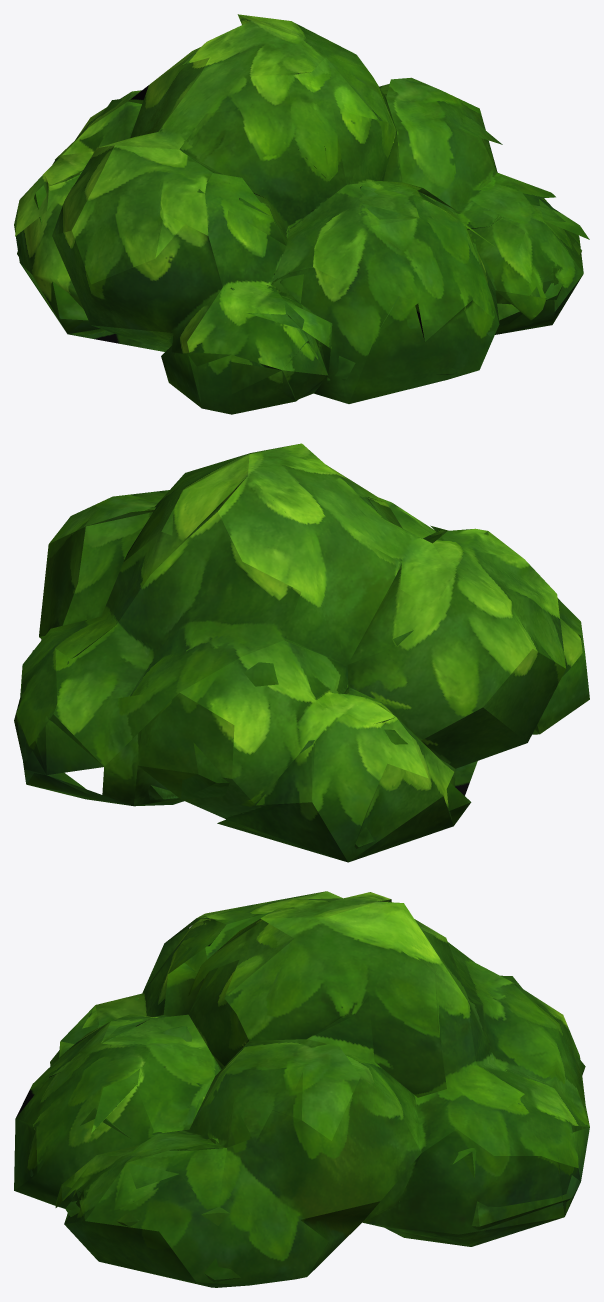
The model's file is bush.glb.
The picture shows the model from 3 angles, top to bottom: view 1: azimuth 30°, elevation 25°; view 2: azimuth 150°, elevation 25°; view 3: azimuth 270°, elevation 25°; orthographic projection. The views are drawn at different scales.
Parts seen in each view (by area): view 1: low; view 2: low; view 3: low.
Part boxes in pixels (x1=…): low: x1=14, y1=14, x2=589, y2=414; low: x1=14, y1=443, x2=589, y2=862; low: x1=14, y1=891, x2=589, y2=1287.
Size of the model in its own units: 0.9789 by 0.5459 by 0.9873.
Materials: 1 (1 with a texture image).
